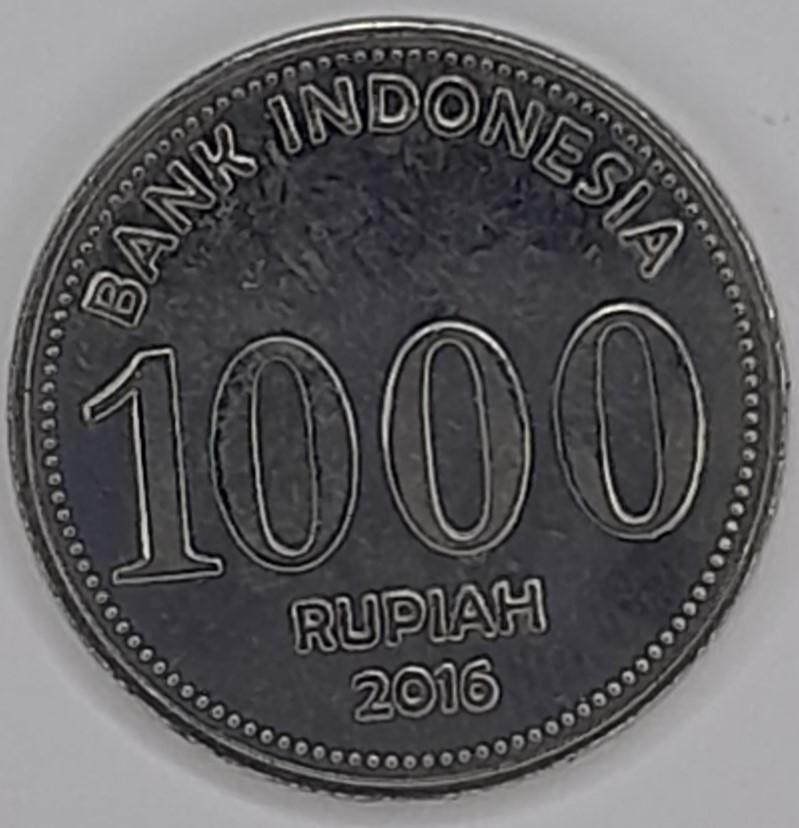coin_1000_e2016: (14, 16, 788, 828)
